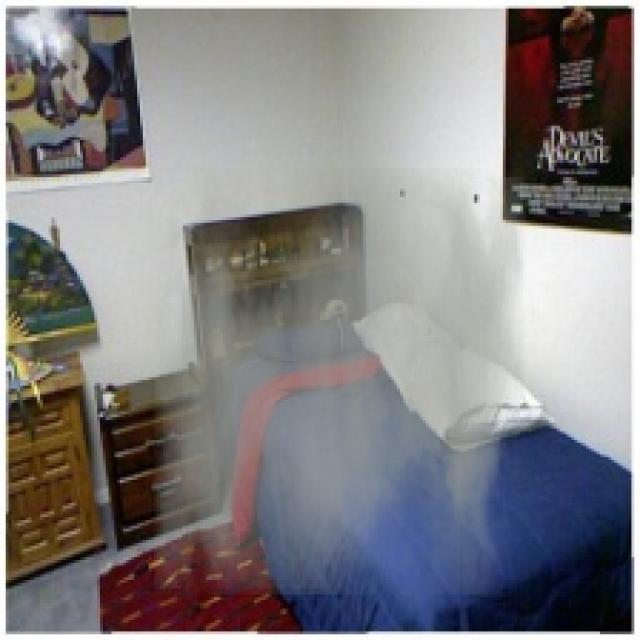smoke: (154, 169, 526, 594)
